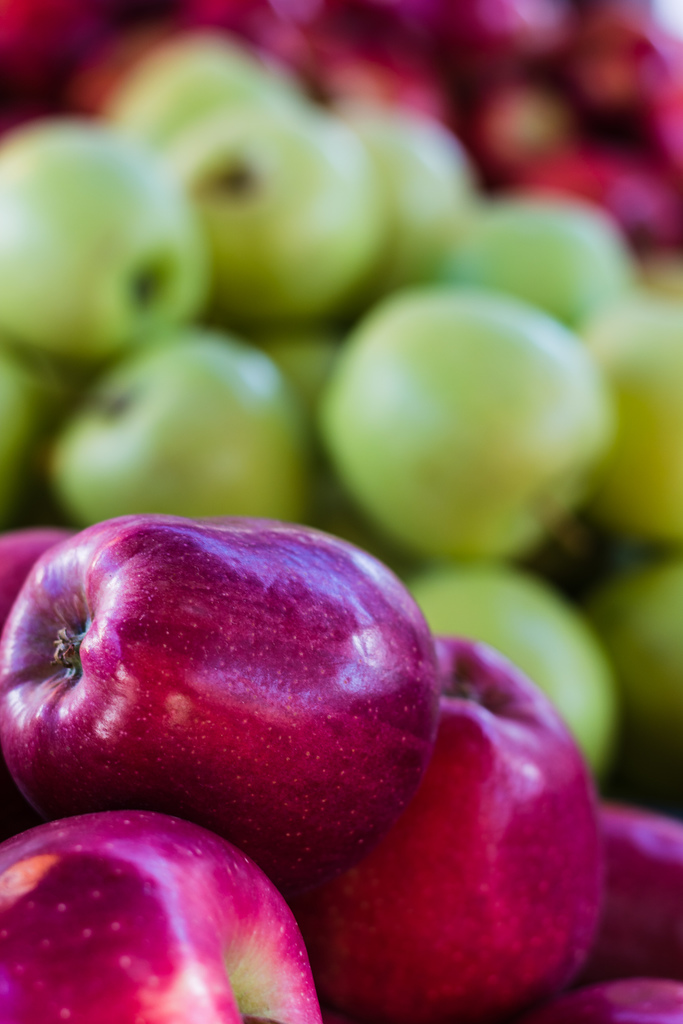Apple: (0, 0, 682, 1023), (11, 518, 455, 886)
